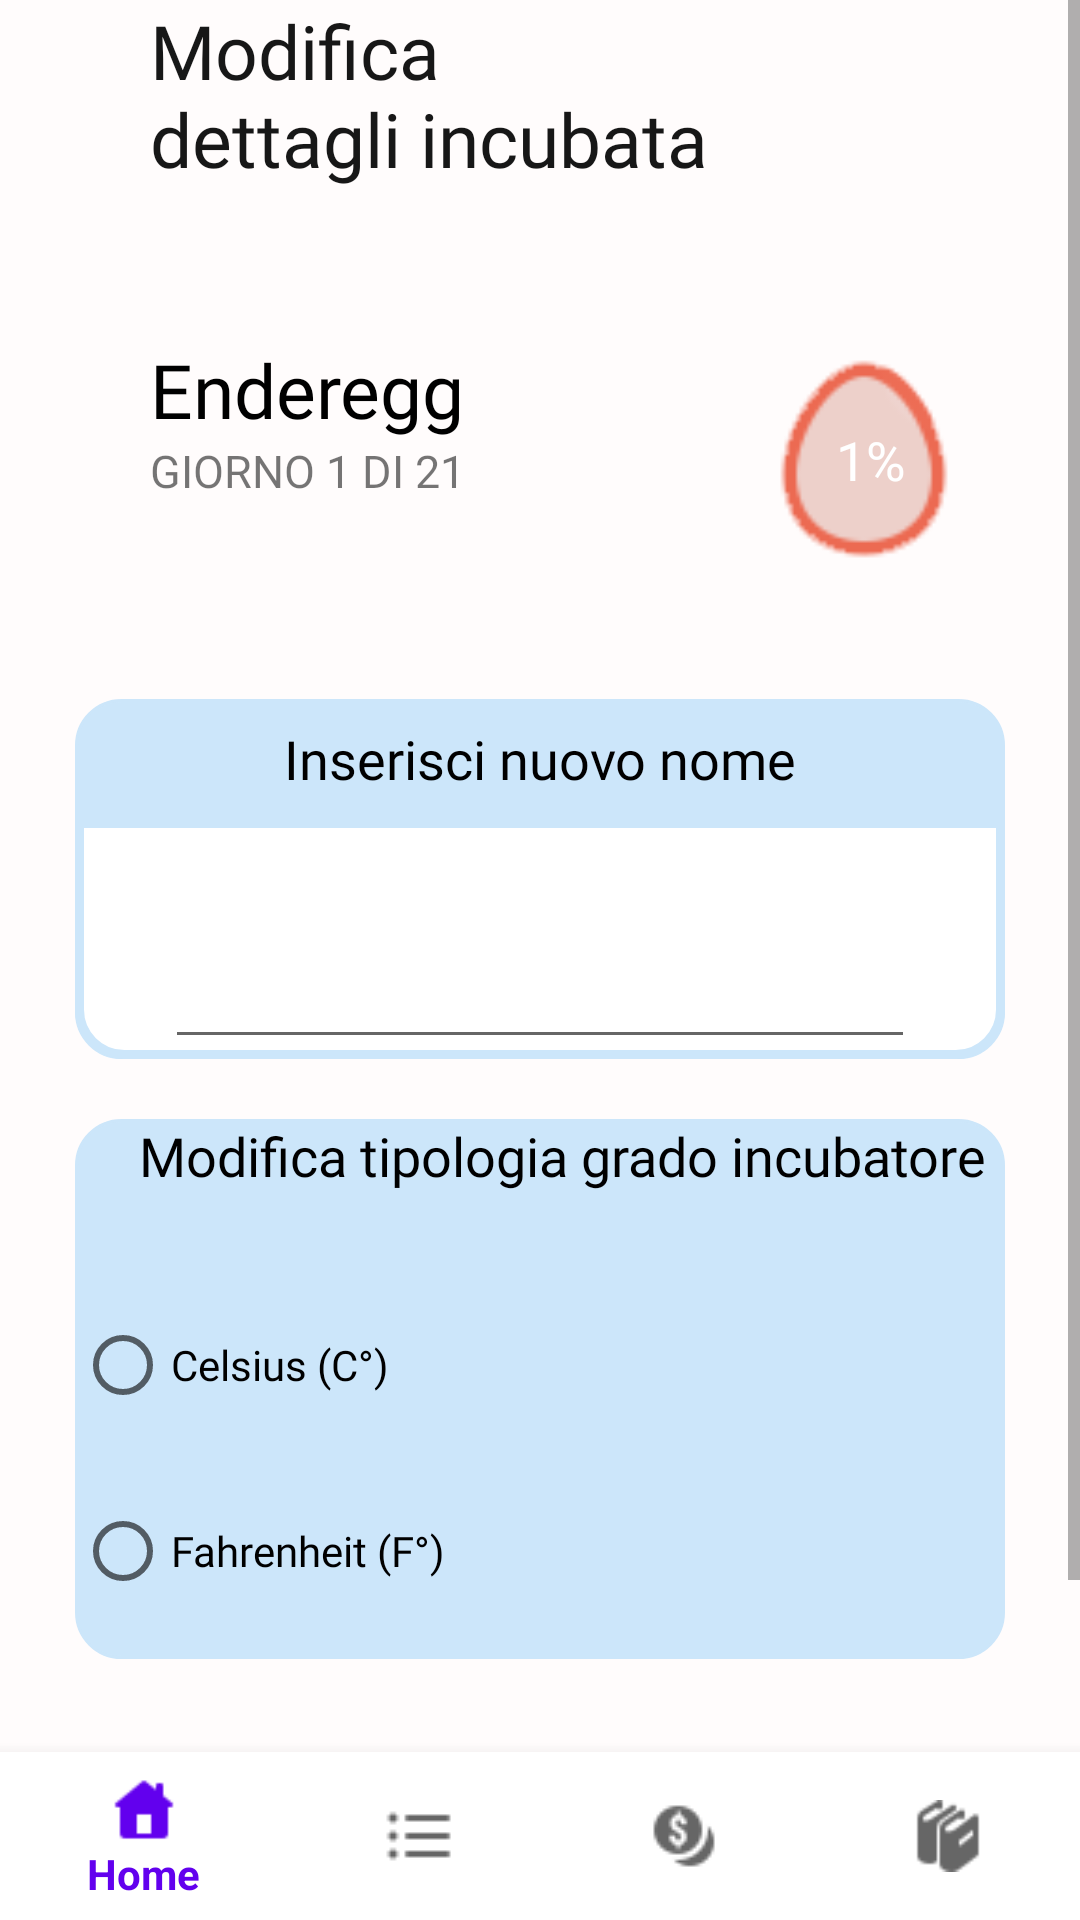

Where to tap for icons on this 1080 × 1920 app screen, as point (x, y):
uovo dettagli: point (864, 459)
